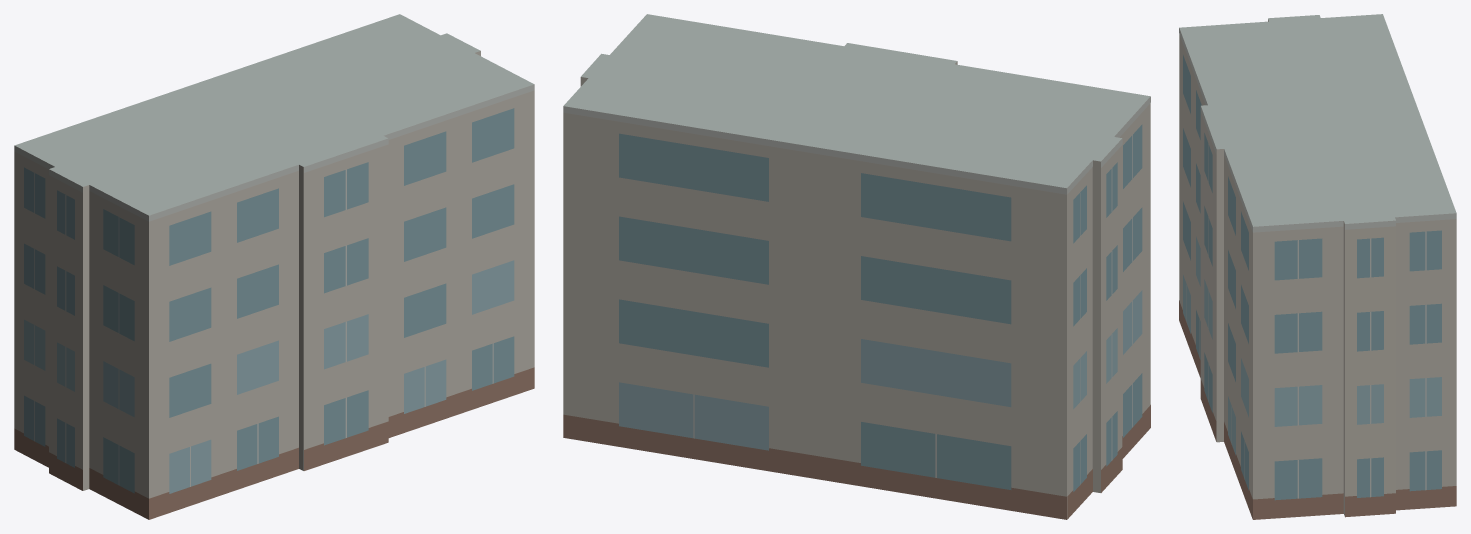
The model's file is survey-upis-32930703.glb.
3 views of the same model, side by side, from view 1: azimuth 30°, elevation 25°; view 2: azimuth 150°, elevation 25°; view 3: azimuth 270°, elevation 25° (orthographic). The views are drawn at different scales.
Visible parts, largest first — view 1: survey-upis-32930703.tmp; view 2: survey-upis-32930703.tmp; view 3: survey-upis-32930703.tmp.
Boxes of the visible parts, left/top/right/bottom form: survey-upis-32930703.tmp: left=14, top=14, right=534, bottom=519; survey-upis-32930703.tmp: left=563, top=14, right=1150, bottom=519; survey-upis-32930703.tmp: left=1179, top=14, right=1456, bottom=519.
Bounding box in the file's own units: 19.29 × 12.38 × 10.63.
